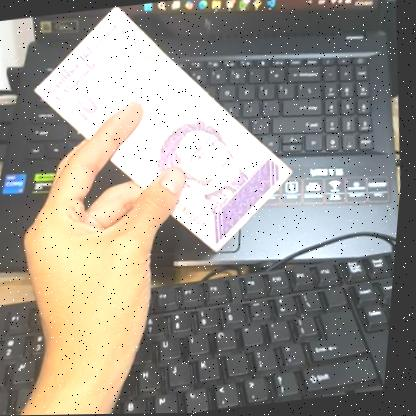ten-front-vef: (15, 0, 314, 273)
